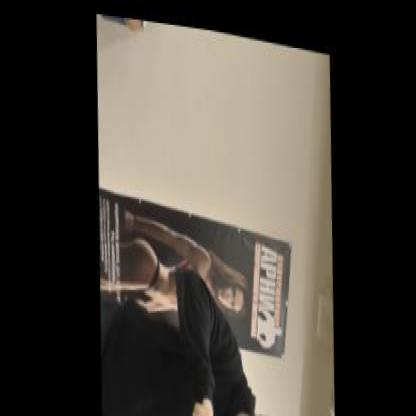knife: (184, 393, 214, 414)
